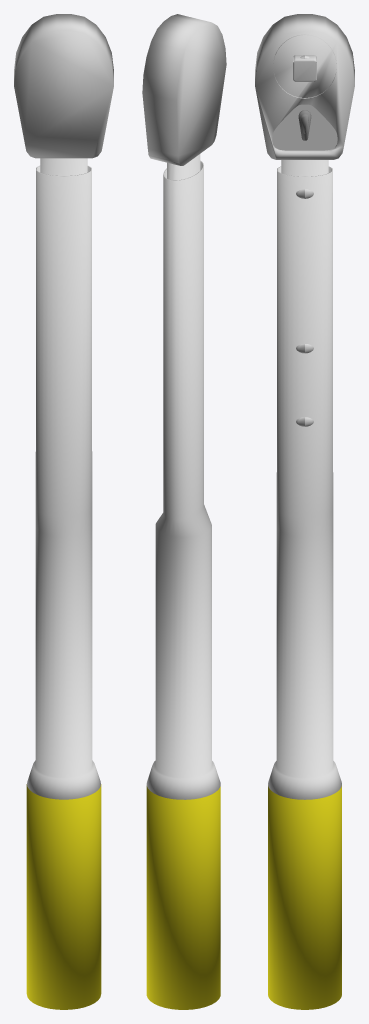
File: torque_wrench.fbx
3 renders of one model, left to right at view 1: azimuth 90°, elevation 25°; view 2: azimuth 150°, elevation 25°; view 3: azimuth 270°, elevation 25°, orthographic.
Parts seen in each view (by area): view 1: torque_wrench; view 2: torque_wrench; view 3: torque_wrench.
Boxes of the visible parts, x1,y1,x2,y2 form: torque_wrench: (14,14,113,1009); torque_wrench: (142,14,226,1009); torque_wrench: (255,14,354,1009).
Bounding box in the file's own units: 2.63 × 37.9 × 3.53.
